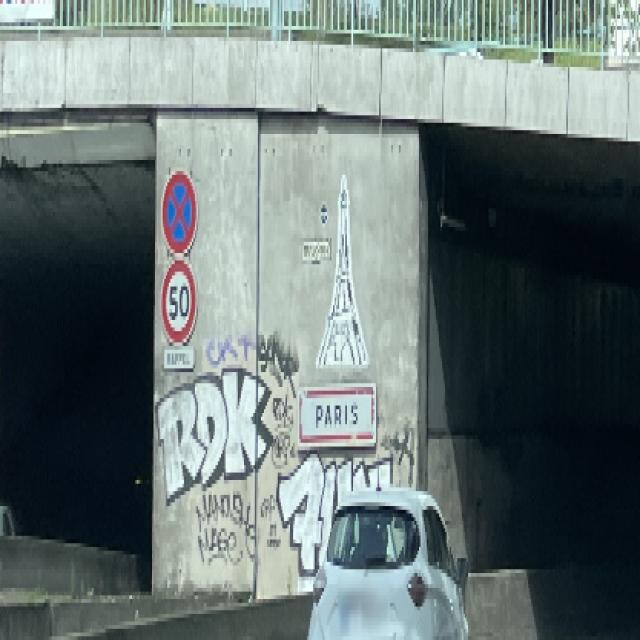speed_50: (160, 255, 198, 348)
